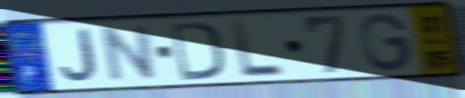7: (299, 14, 351, 77)
D: (168, 19, 225, 83)
G: (358, 11, 413, 74)
J: (58, 27, 100, 84)
L: (229, 18, 287, 80)
N: (100, 23, 159, 84)
